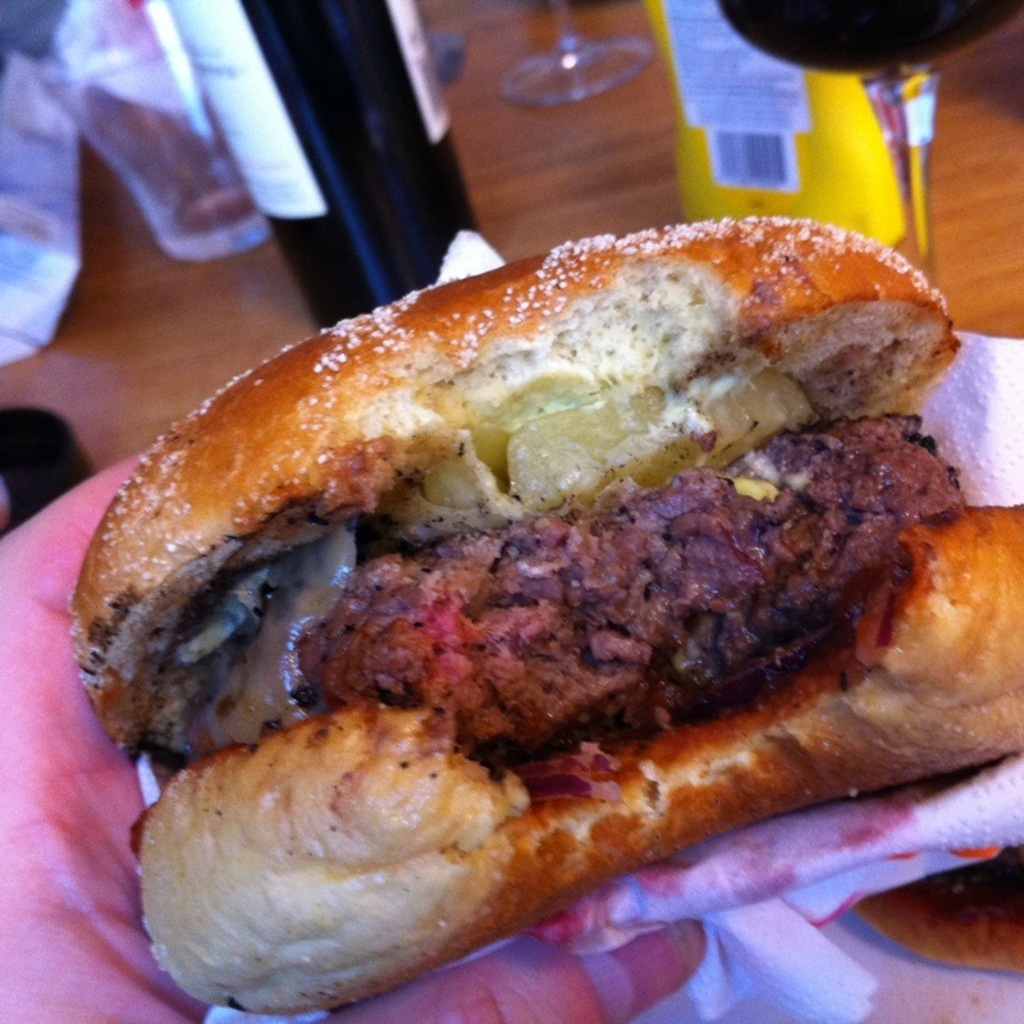Hamburger: (67, 213, 1022, 1009)
